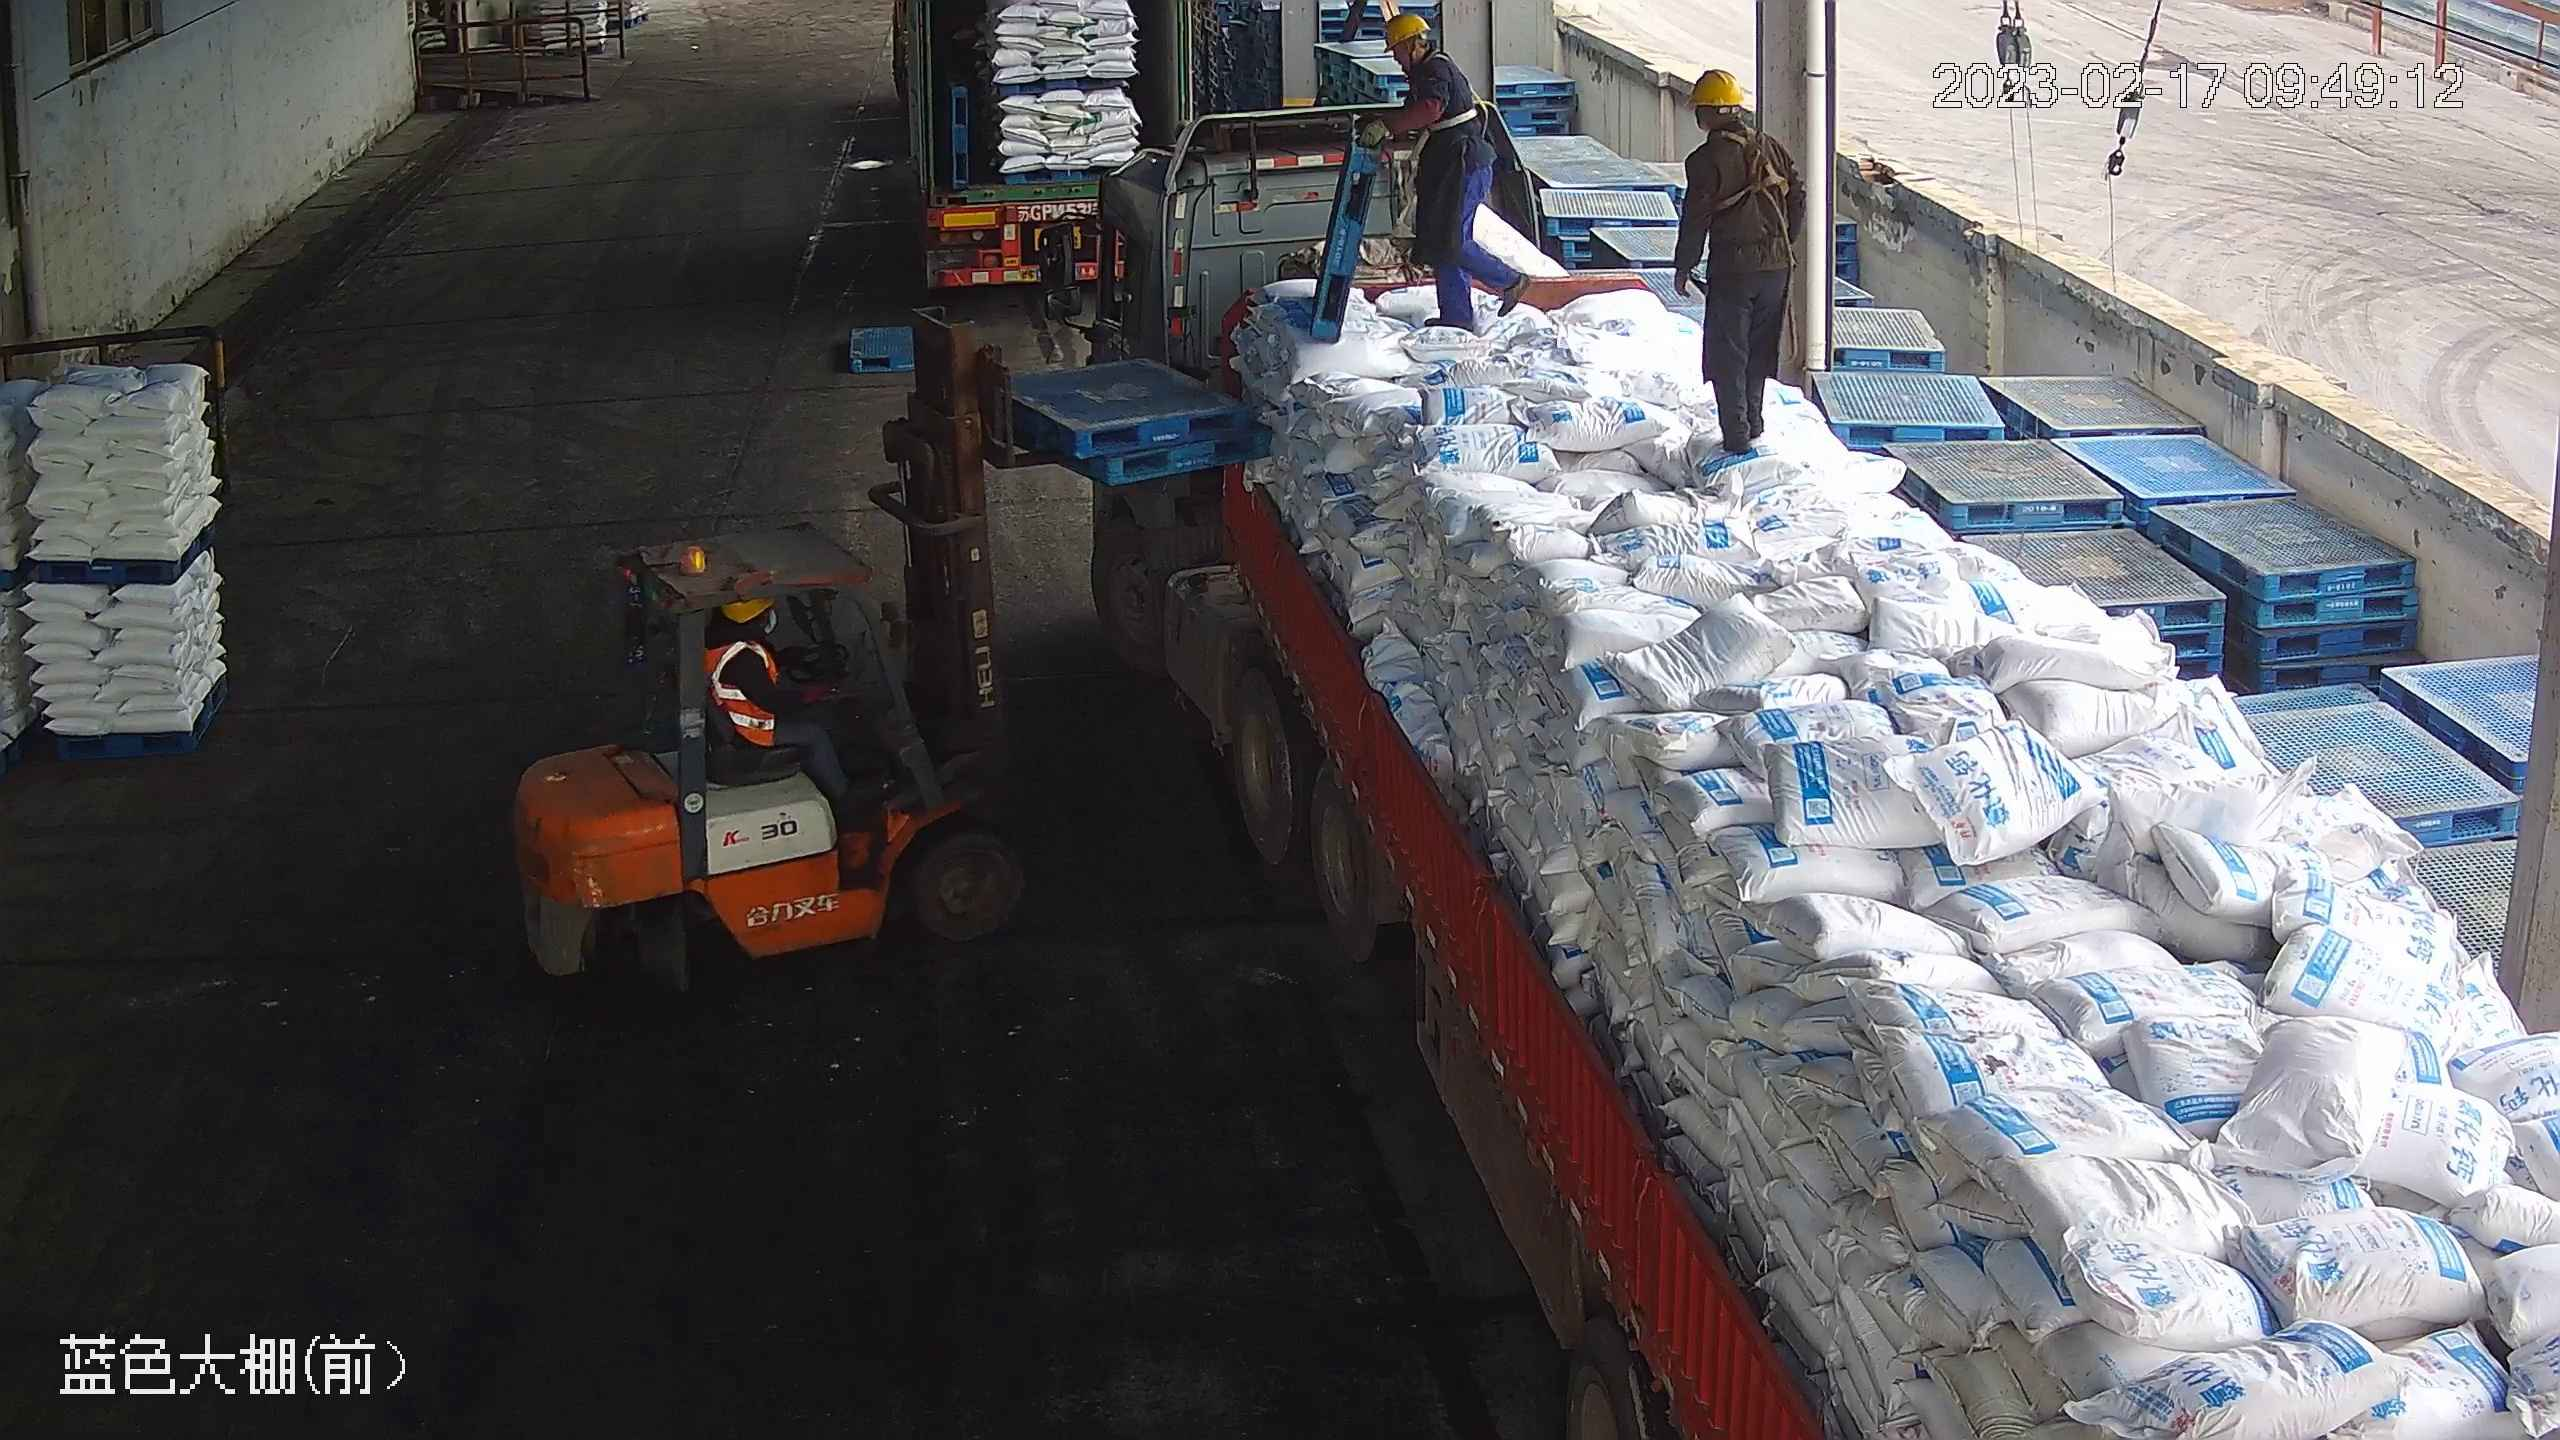belt: (1707, 128, 1785, 212), (1424, 59, 1485, 127)
head: (1677, 69, 1785, 178), (1377, 11, 1471, 108), (707, 597, 782, 686)
helmet: (1685, 66, 1746, 109), (1383, 10, 1429, 49)
people: (1670, 64, 1807, 459), (1368, 8, 1492, 334), (705, 593, 866, 798)
truck: (1040, 120, 2558, 1440), (894, 1, 1209, 314)
